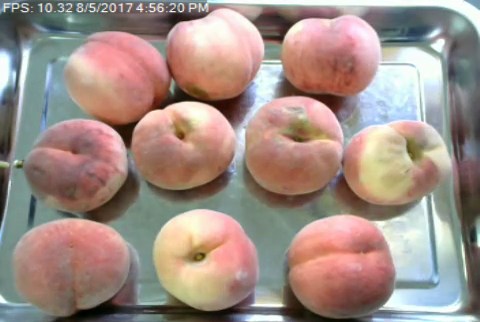Peach: (16, 216, 132, 314), (288, 214, 395, 319), (153, 209, 257, 310), (65, 29, 168, 125), (24, 119, 129, 212), (165, 7, 265, 102), (245, 95, 341, 193), (131, 99, 234, 190), (344, 119, 451, 206), (280, 14, 380, 98)
